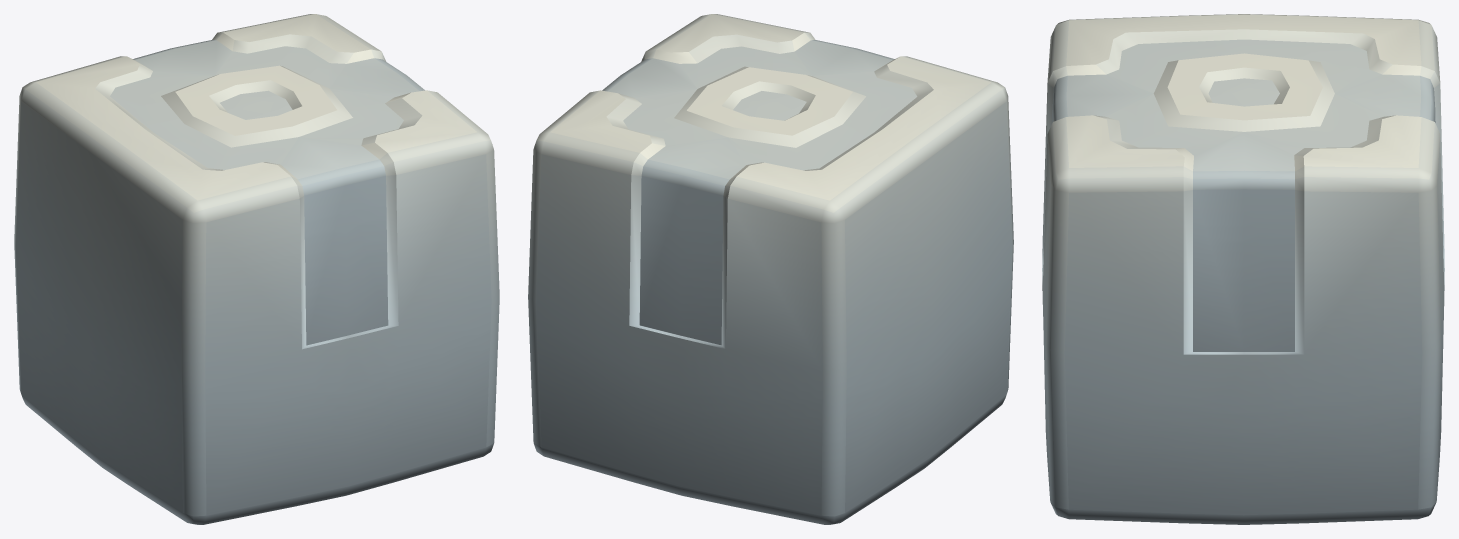
File: Quartz_Free3.fbx
The picture shows the model from 3 angles, left to right: view 1: azimuth 30°, elevation 25°; view 2: azimuth 150°, elevation 25°; view 3: azimuth 270°, elevation 25°; orthographic projection. The views are drawn at different scales.
Visible parts, largest first — view 1: Quartz_Free3_LOD0; view 2: Quartz_Free3_LOD0; view 3: Quartz_Free3_LOD0.
Part boxes in pixels (x1=…): Quartz_Free3_LOD0: x1=14, y1=14, x2=499, y2=524; Quartz_Free3_LOD0: x1=528, y1=14, x2=1013, y2=524; Quartz_Free3_LOD0: x1=1042, y1=14, x2=1444, y2=524.
Size of what is drawn, in the model's own units: 1.09 by 1.09 by 1.09.
